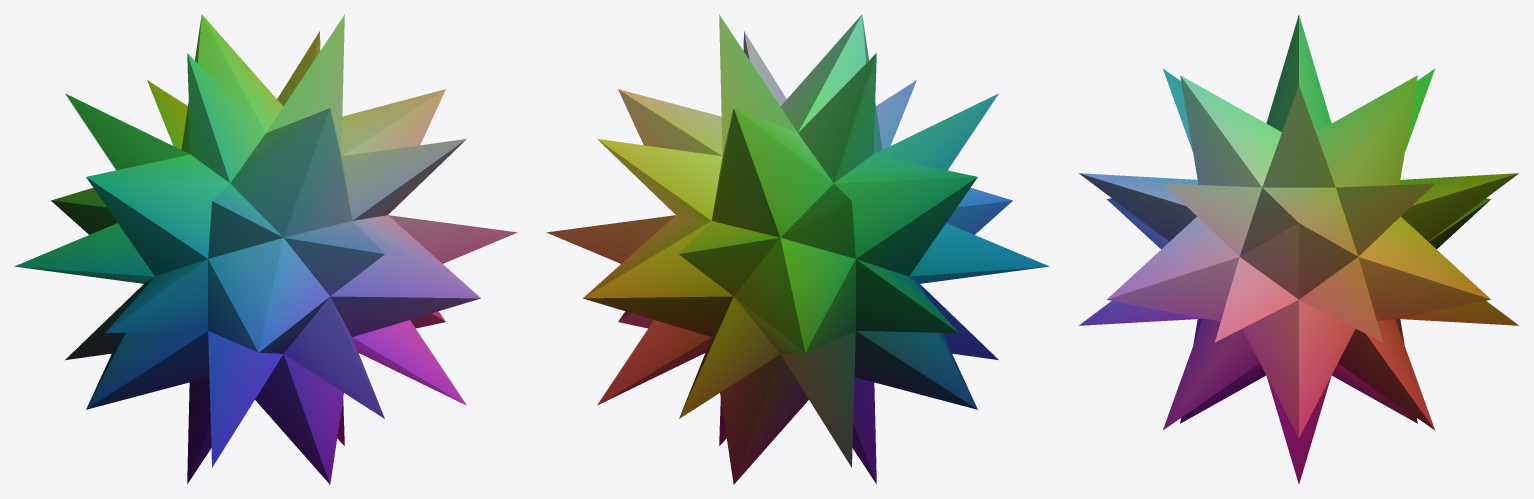
File: zeometry-stars-spikes-spiky-star_v4.glb
3 views of the same model, side by side, from view 1: azimuth 30°, elevation 25°; view 2: azimuth 150°, elevation 25°; view 3: azimuth 270°, elevation 25° (orthographic). The views are drawn at different scales.
Parts seen in each view (by area): view 1: Spiky Star_v4; view 2: Spiky Star_v4; view 3: Spiky Star_v4.
Boxes of the visible parts, x1,y1,x2,y2 form: Spiky Star_v4: (14,14,517,484); Spiky Star_v4: (546,14,1049,484); Spiky Star_v4: (1079,15,1518,483).
Bounding box in the file's own units: 0.5 × 0.5 × 0.5.
